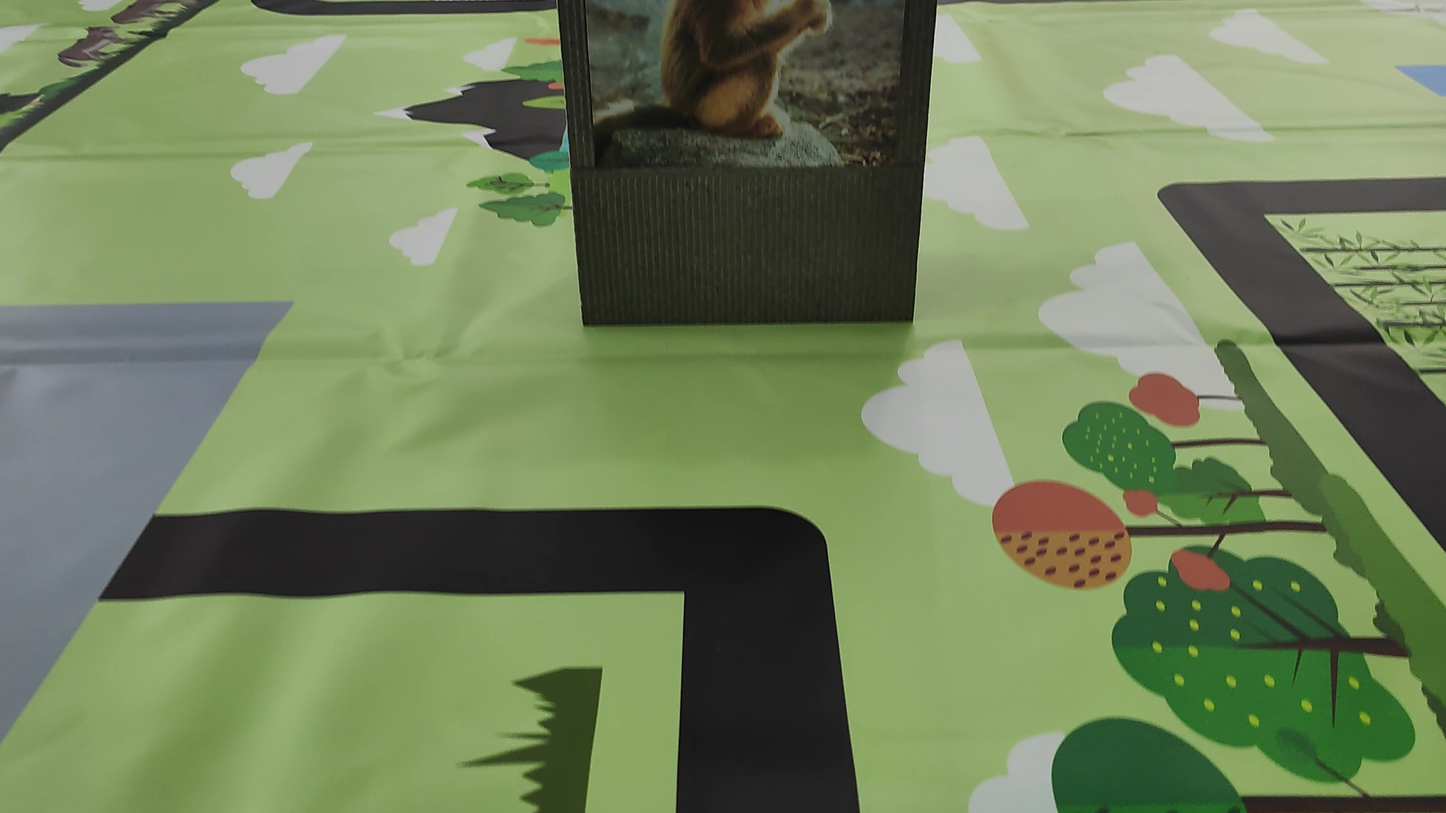monkey: (652, 1, 847, 143)
